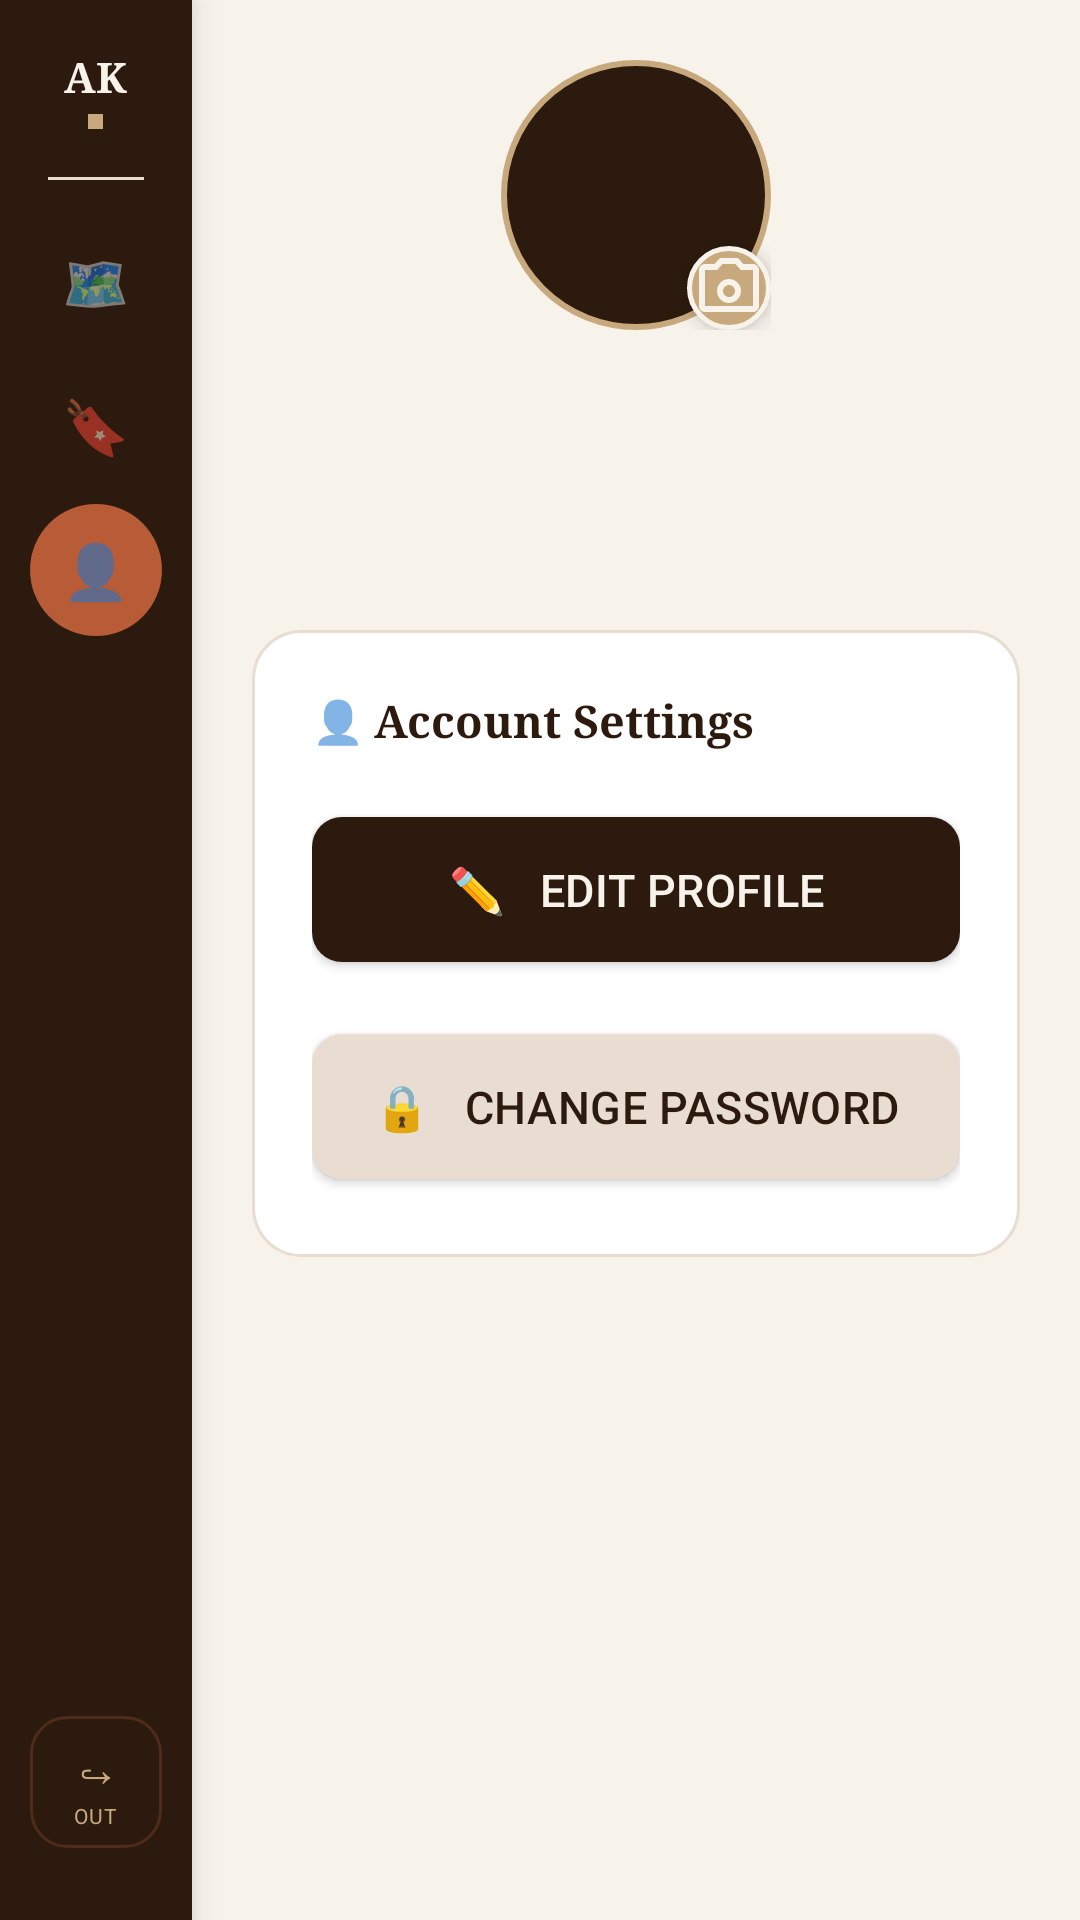

Point at icon controls on the screen. Image size 1080w x 1920h, points as (x,y).
Change profile photo: (729,288)
